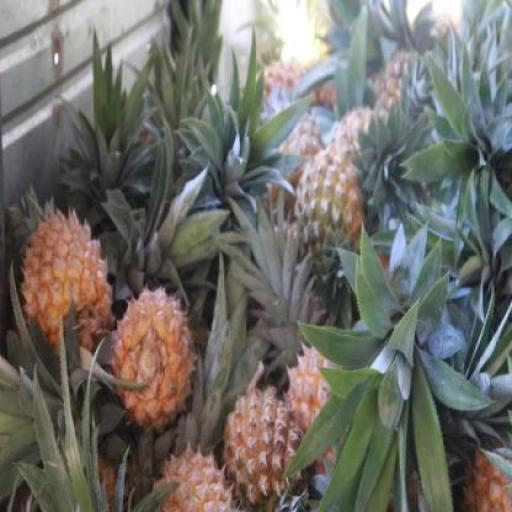Pineapple - v8 v1: (20, 209, 110, 355), (113, 286, 192, 420), (222, 378, 299, 509), (150, 432, 232, 512)
